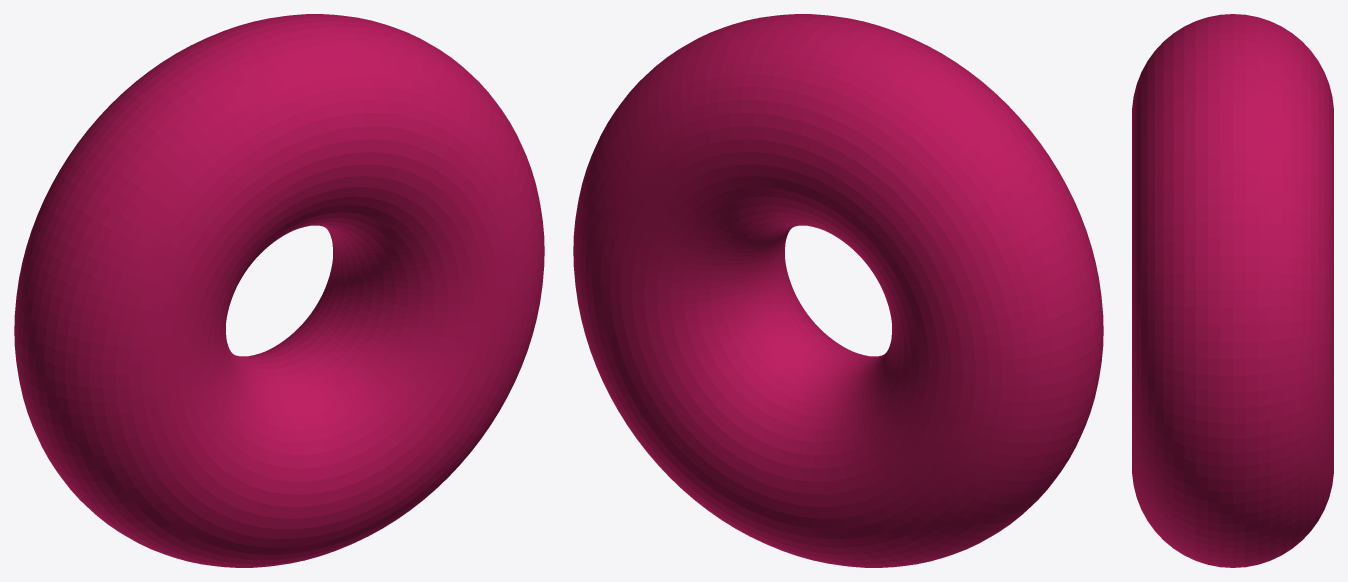
The picture shows the model from 3 angles, left to right: view 1: azimuth 30°, elevation 25°; view 2: azimuth 150°, elevation 25°; view 3: azimuth 270°, elevation 25°; orthographic projection. The views are drawn at different scales.
Parts seen in each view (by area): view 1: world; view 2: world; view 3: world.
Part boxes in pixels (x1,y1,x2,y2): world: (14, 14, 544, 567); world: (573, 14, 1103, 567); world: (1132, 14, 1333, 567).
Size of the model in its own units: 25.2 by 25.2 by 9.18.
